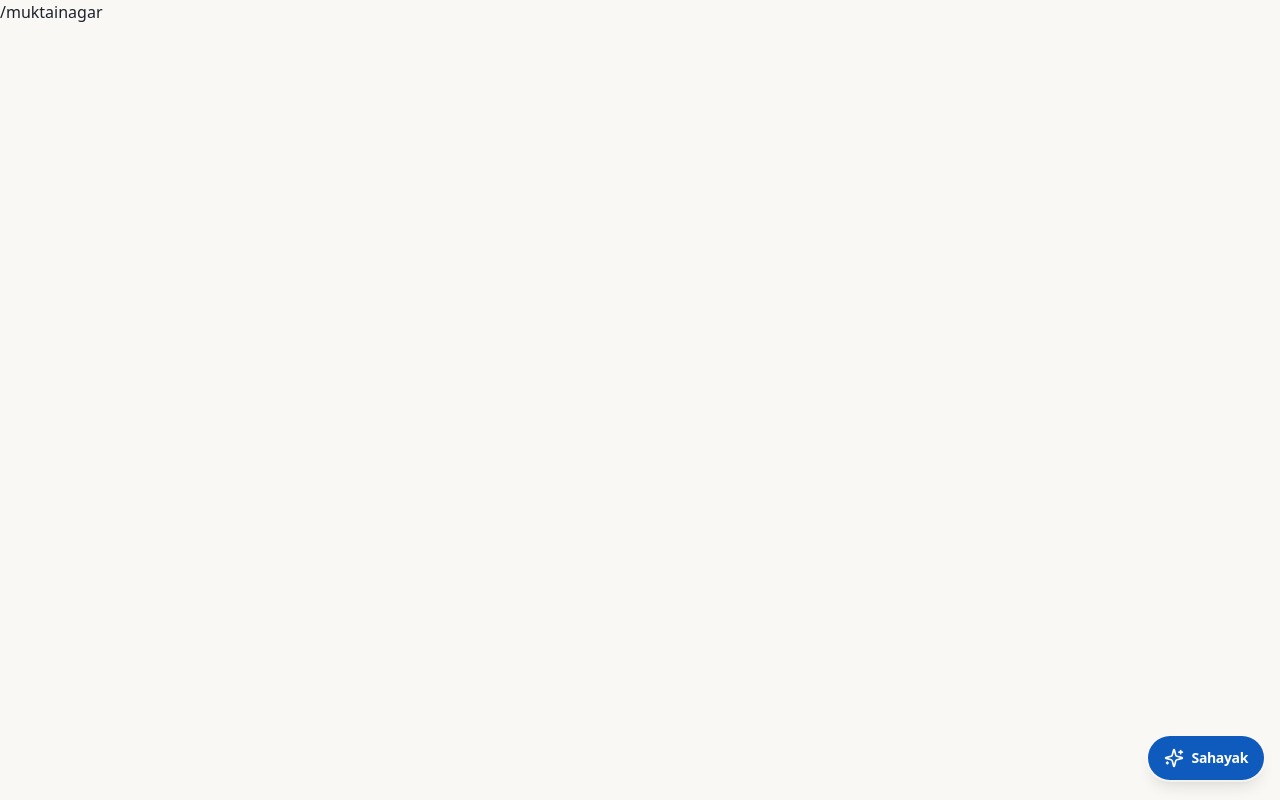
TownAssistant › TownAssistantDrawer UI › opens drawer, queries affordable meals via fallback, navigates on card tap, and resets on city switch
Later steps or results of the test are not shown.
Click the button with test id "town-assistant-fab" at [1206, 758], box x1=1148 y1=736 x2=1264 y2=780
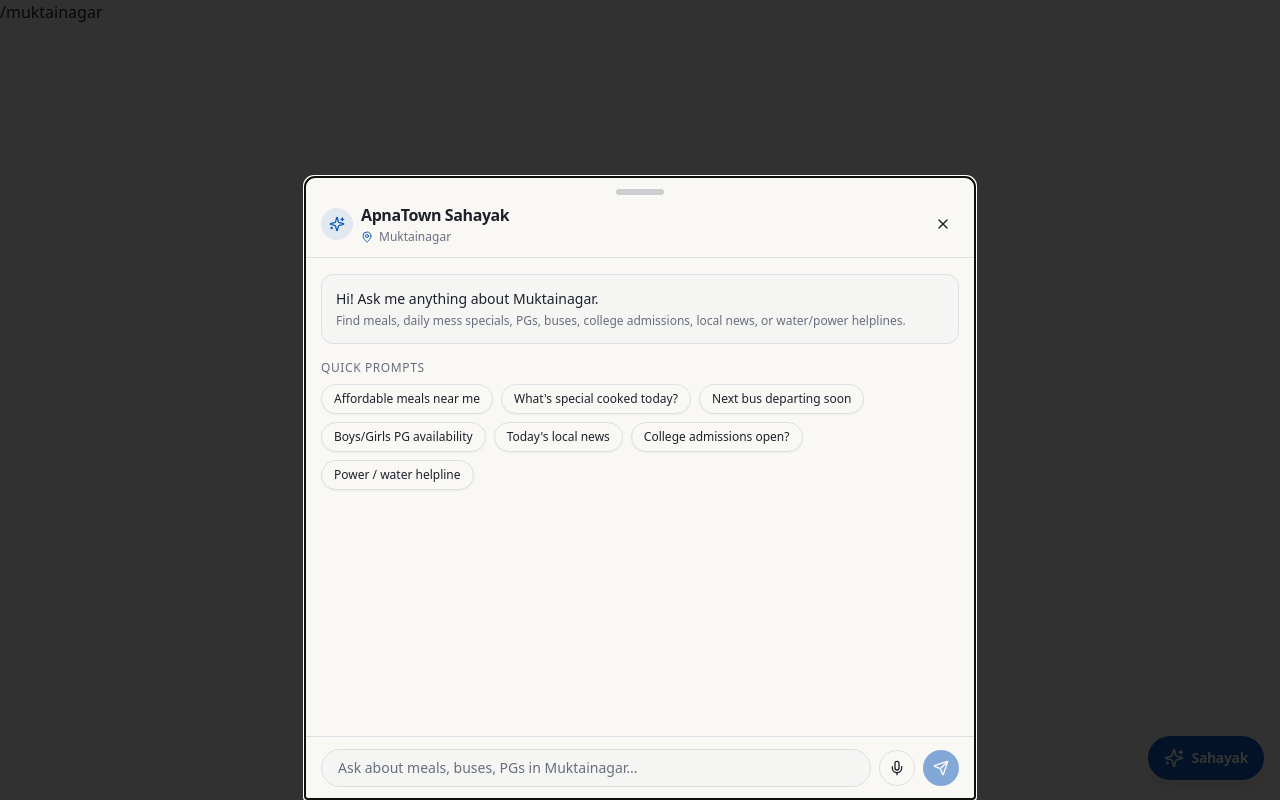
Check: the text with test id "assistant-location-badge" reads "Muktainagar", box x1=379 y1=228 x2=451 y2=245
Click the button "Affordable meals near me" at [407, 399], box x1=321 y1=384 x2=493 y2=414
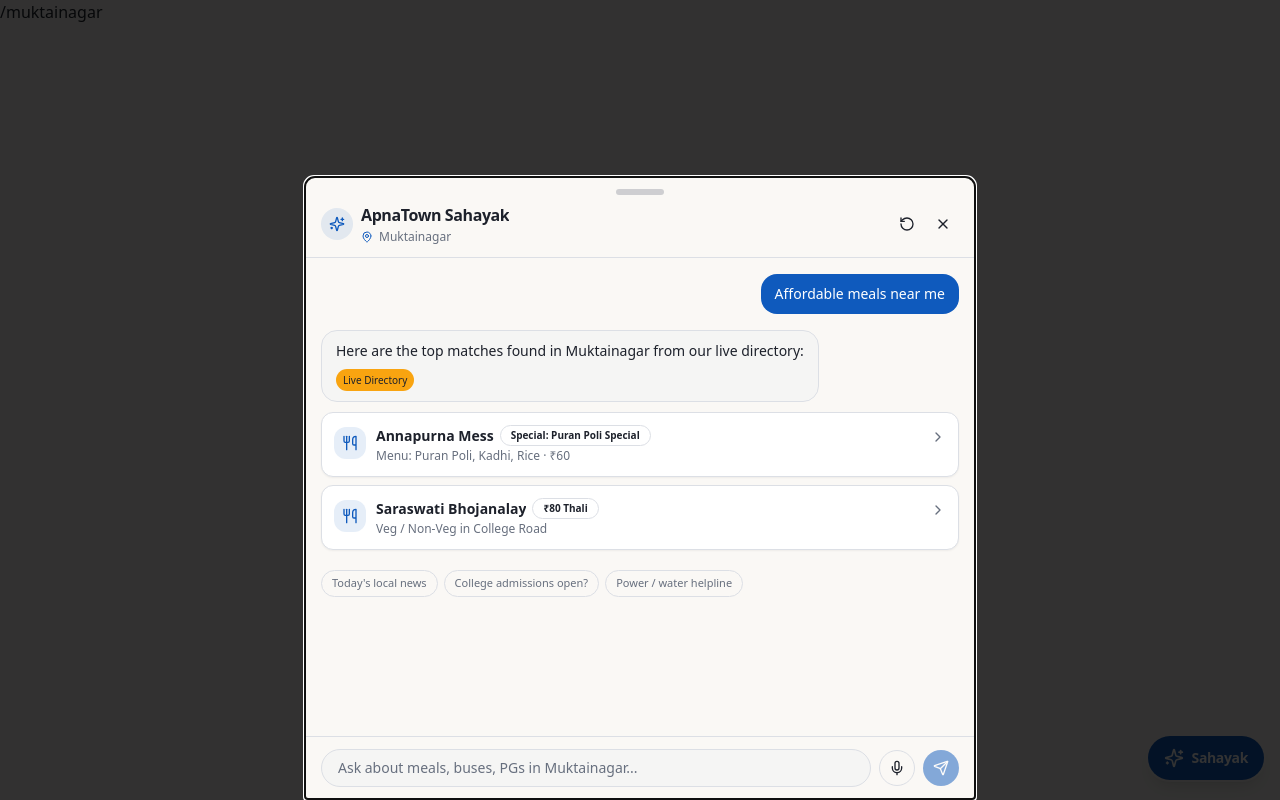
Check: the text "Live Directory" is shown, box x1=336 y1=369 x2=414 y2=391
Check: the text "Annapurna Mess" is shown, box x1=376 y1=426 x2=494 y2=446
Click the button that starts with "Annapurna Mess" at [640, 444], box x1=322 y1=413 x2=958 y2=476
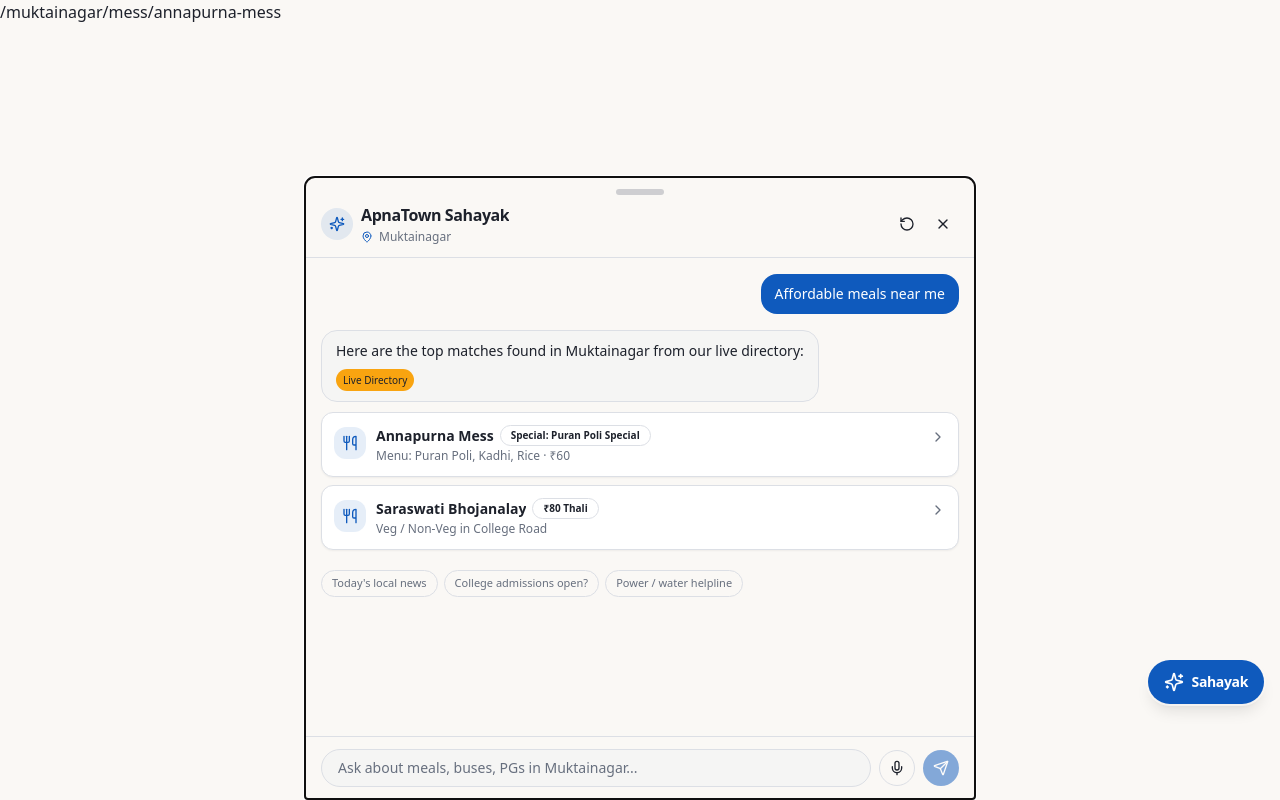
Check: the text with test id "current-path" reads "/muktainagar/mess/annapurna-mess", box x1=0 y1=1 x2=281 y2=23
